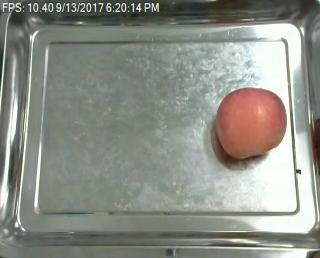apple: (216, 88, 288, 161)
